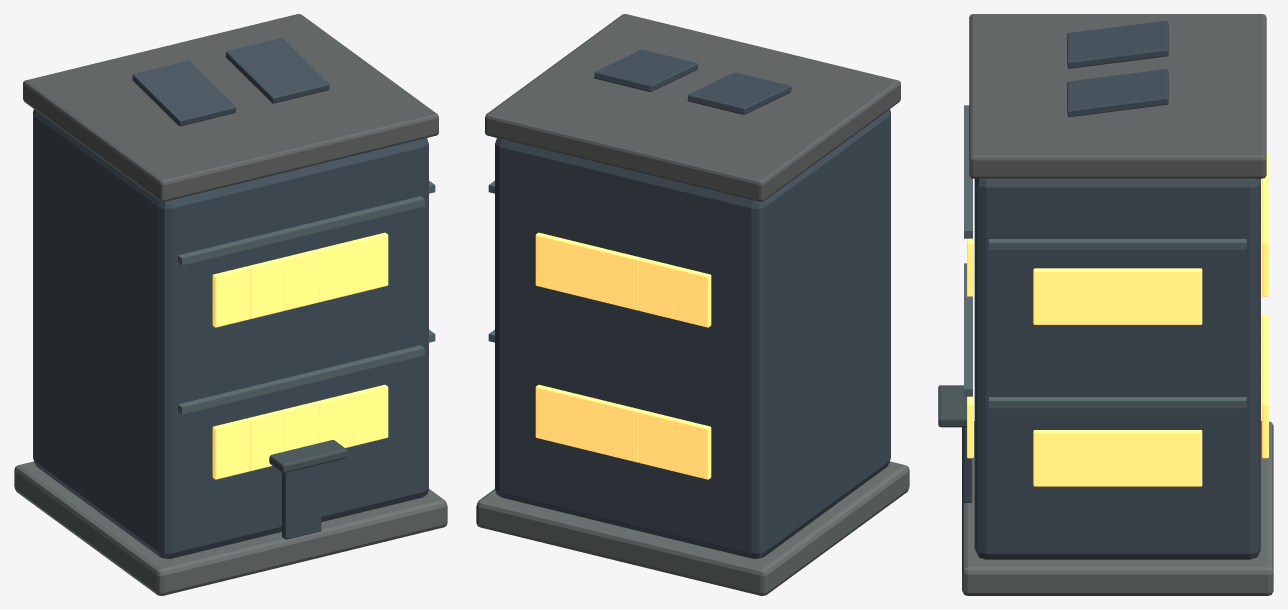
The model's file is residential_townhouse.glb.
3 views of the same model, side by side, from view 1: azimuth 30°, elevation 25°; view 2: azimuth 150°, elevation 25°; view 3: azimuth 270°, elevation 25° (orthographic). The views are drawn at different scales.
Parts seen in each view (by area): view 1: main_massing, roof_slab, foundation, roof_panel, roof_panel.001, facade_band_front.001, facade_band_front, entry_door, front_window, front_window.005, front_window.009, front_window.007 (+7 smaller); view 2: main_massing, roof_slab, foundation, roof_panel, roof_panel.001, rear_window, rear_window.005, rear_window.002, rear_window.009, rear_window.007, rear_window.004, rear_window.001 (+3 smaller); view 3: main_massing, roof_slab, foundation, roof_panel, roof_panel.001, facade_band_side, facade_band_side.001, side_window.003, side_window.007, side_window, side_window.004, side_window.005 (+10 smaller).
Part boxes in pixels (left/top/right/bottom): main_massing: left=33, top=109, right=428, bottom=558; roof_slab: left=23, top=14, right=438, bottom=201; foundation: left=14, top=461, right=447, bottom=595; roof_panel: left=132, top=61, right=236, bottom=126; roof_panel.001: left=225, top=38, right=329, bottom=103; facade_band_front.001: left=178, top=196, right=424, bottom=265; facade_band_front: left=178, top=345, right=424, bottom=414; entry_door: left=282, top=464, right=321, bottom=539; front_window: left=212, top=418, right=249, bottom=479; front_window.005: left=212, top=266, right=249, bottom=327; front_window.009: left=351, top=232, right=388, bottom=293; front_window.007: left=282, top=249, right=319, bottom=310; main_massing: left=495, top=109, right=890, bottom=558; roof_slab: left=485, top=14, right=900, bottom=201; foundation: left=476, top=461, right=909, bottom=595; roof_panel: left=687, top=72, right=791, bottom=114; roof_panel.001: left=594, top=49, right=698, bottom=91; rear_window: left=674, top=418, right=711, bottom=479; rear_window.005: left=674, top=266, right=711, bottom=327; rear_window.002: left=604, top=401, right=641, bottom=462; rear_window.009: left=535, top=232, right=572, bottom=293; rear_window.007: left=604, top=249, right=641, bottom=310; rear_window.004: left=535, top=384, right=572, bottom=445; rear_window.001: left=639, top=410, right=676, bottom=471; main_massing: left=974, top=178, right=1260, bottom=559; roof_slab: left=969, top=14, right=1266, bottom=178; foundation: left=962, top=421, right=1273, bottom=595; roof_panel: left=1067, top=20, right=1168, bottom=68; roof_panel.001: left=1067, top=69, right=1168, bottom=117; facade_band_side: left=989, top=397, right=1246, bottom=408; facade_band_side.001: left=989, top=239, right=1246, bottom=249; side_window.003: left=1033, top=430, right=1076, bottom=486; side_window.007: left=1033, top=268, right=1076, bottom=324; side_window: left=1159, top=430, right=1202, bottom=486; side_window.004: left=1159, top=268, right=1202, bottom=324; side_window.005: left=1117, top=268, right=1159, bottom=324.
Bounding box in the file's own units: 1.12 × 1.61 × 1.05.
